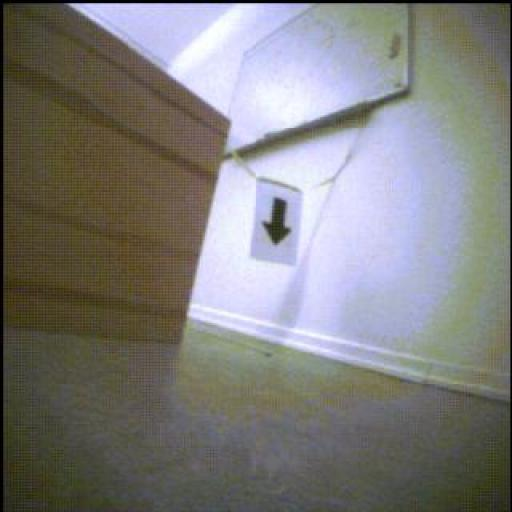Arrow: (264, 199, 293, 246)
